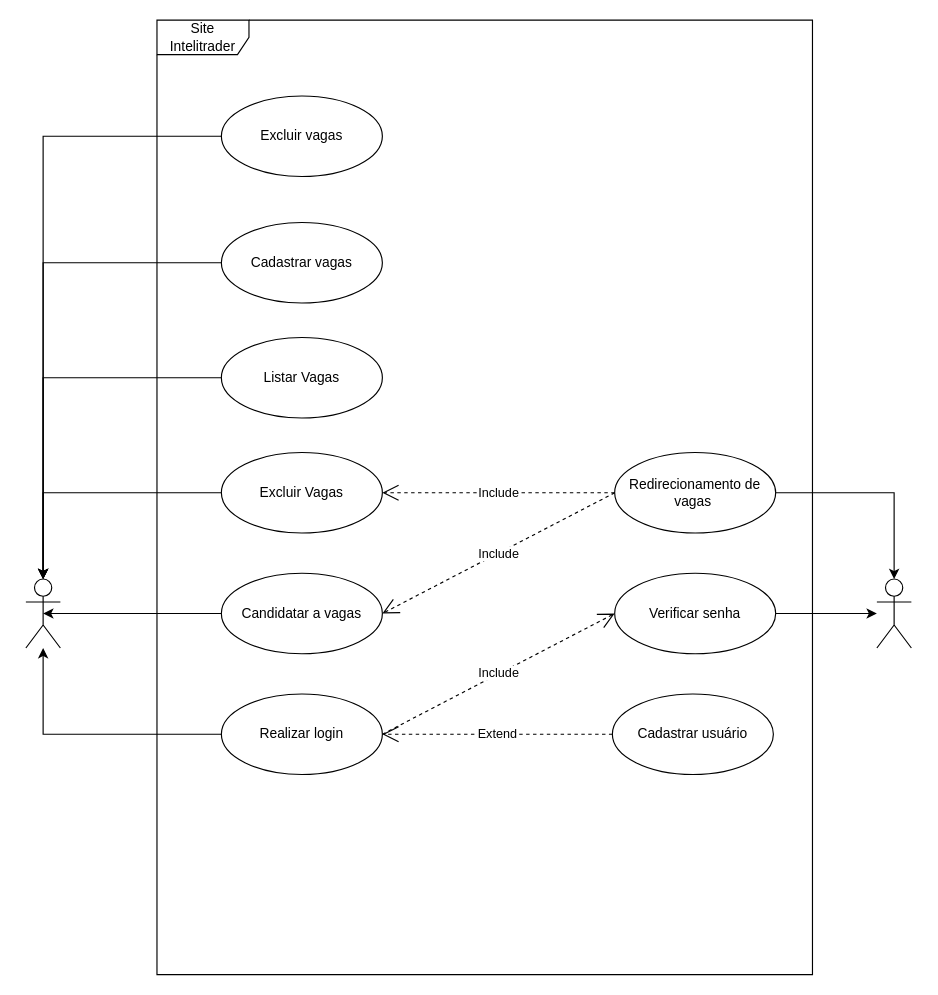
Some shapes in this 938 by 995 pixel diagram are drawn without their labels. The box of each missing label's shape, as (x1, y1, x2, y2) in pixels:
Sistema: (876, 578, 911, 648)
Usuário: (25, 578, 60, 648)
